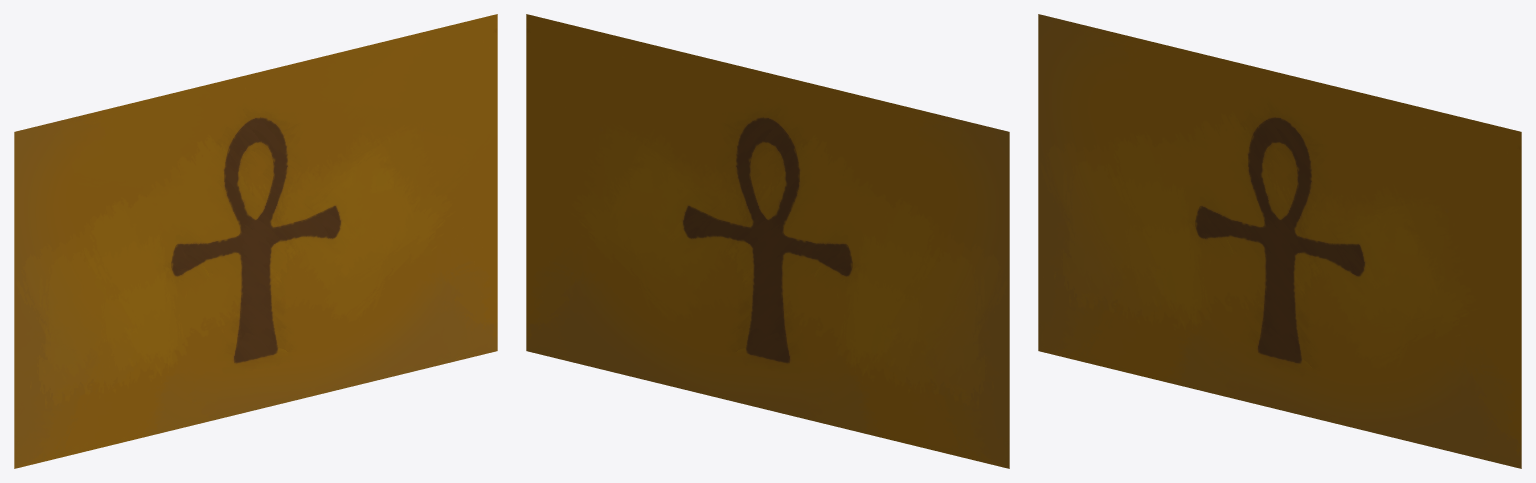
The model's file is flag.fbx.
3 renders of one model, left to right at view 1: azimuth 30°, elevation 25°; view 2: azimuth 150°, elevation 25°; view 3: azimuth 330°, elevation 25°, orthographic.
Parts seen in each view (by area): view 1: flag; view 2: flag; view 3: flag.
Part boxes in pixels (x1,y1,x2,y2): flag: (14,14,497,468); flag: (526,14,1009,468); flag: (1038,14,1521,468).
Bounding box in the file's own units: 90 × 60 × 3.06e-05.
